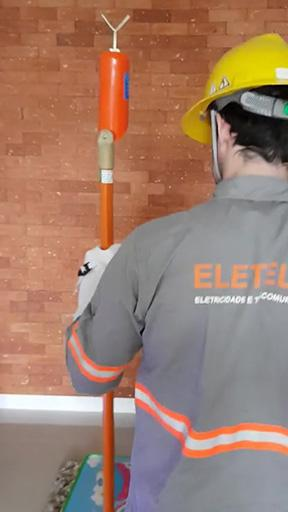Detector_Tensao_Contato: (96, 11, 131, 144)
Vara_Manobra: (95, 134, 116, 512)
